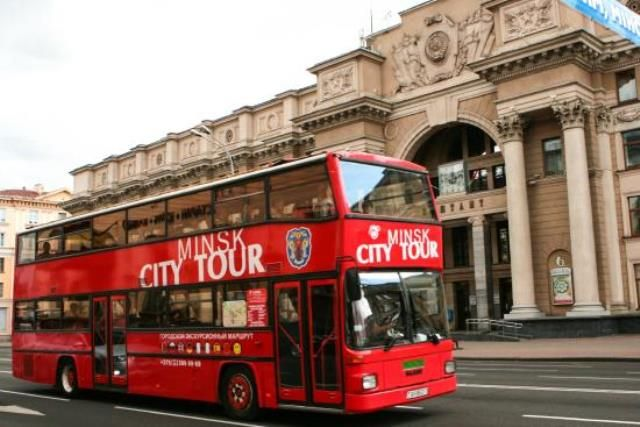bus: (13, 150, 459, 423)
